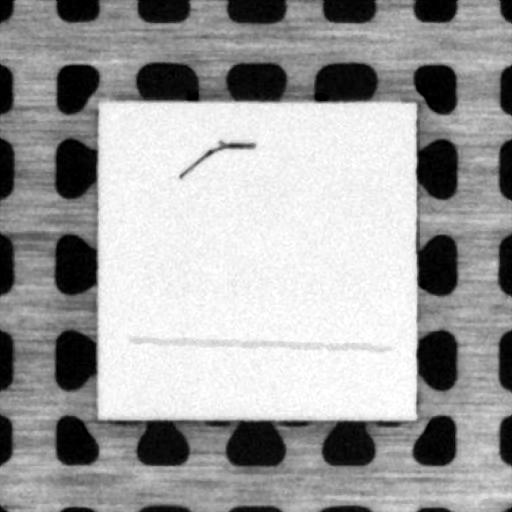DIE_INK: (174, 134, 254, 185)
